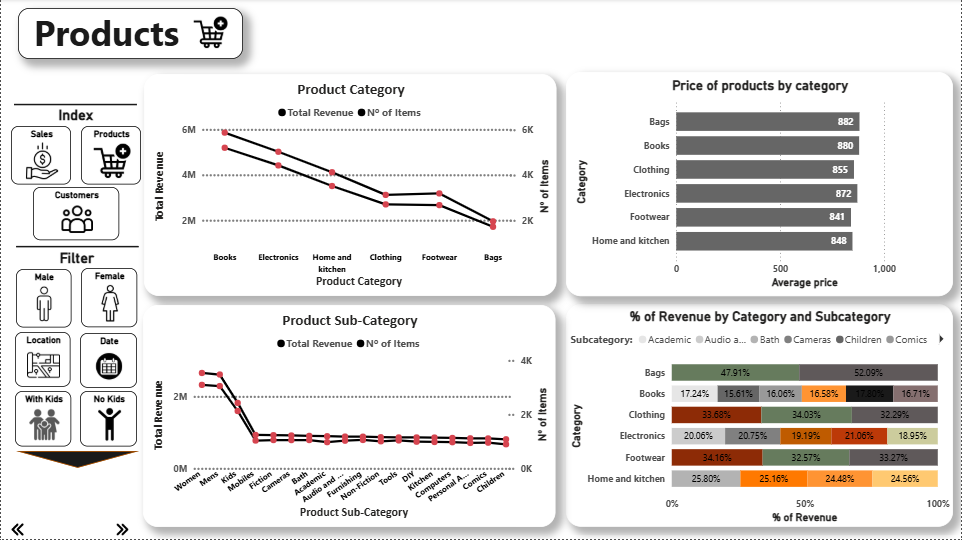

What the dashboard file says about the page in this screenshot:
{"tool":"powerbi","page":{"name":"Products","canvas":[1280,720],"ordinal":1},"visuals":[{"type":"textbox","title":"Products","box":[22.7,12,300,68],"z":0},{"type":"image","box":[140.5,688.9,43.2,31.1],"z":1000},{"type":"image","box":[0,688.9,44.2,31.1],"z":2000},{"type":"image","box":[252,12,54.7,64],"z":3000},{"type":"hundredPercentStackedBarChart","title":"% of Revenue by Category and Subcategory","fields":{"Series":["temp1671068008898978552.prod_subcat"],"Category":["temp1671068008898978552.prod_cat"],"Y":["Sum(temp1671068008898978552.total_amt)"]},"box":[752.9,407.1,515.7,297.1],"z":7000},{"type":"lineChart","title":"Product Category","fields":{"Y":["Sum(temp1671068008898978552.total_amt)"],"Category":["temp1671068008898978552.prod_cat"],"Y2":["Sum(temp1671068008898978552.Qty)"]},"box":[190,100,550,295.7],"z":8000},{"type":"lineChart","title":" Product Sub-Category","fields":{"Y":["Sum(temp1671068008898978552.total_amt)"],"Y2":["Sum(temp1671068008898978552.Qty)"],"Category":["temp1671068008898978552.prod_subcat"]},"box":[189.4,407.8,549.6,296.3],"z":9000},{"type":"barChart","title":"Price of products by category","fields":{"Category":["temp1671068008898978552.prod_cat"],"Y":["Avg(temp1671068008898978552.Unit_price)"]},"box":[752.9,97.1,515.7,298.6],"z":10000},{"type":"image","box":[140.5,688.9,43.2,31.1],"z":11000},{"type":"image","box":[0,688.9,44.2,31.1],"z":12000},{"type":"textbox","box":[56.4,138.8,87.7,33.5],"z":13000},{"type":"shape","box":[17.9,133.9,163.9,14.8],"z":14000},{"type":"image","title":"Sales","box":[13.8,168.8,80.3,78.1],"z":15000},{"type":"textbox","box":[57.7,329.4,87.7,33.8],"z":16000},{"type":"image","title":"Products","box":[106.4,168.8,80,78.1],"z":17000},{"type":"image","title":"Customers","box":[42.5,251.1,115.2,71.3],"z":18000},{"type":"shape","box":[19.6,322,163.8,15],"z":19000},{"type":"shape","box":[19.6,603,164.4,22.5],"z":20000},{"type":"image","title":"Date","box":[105.9,444.9,76.2,72.5],"z":21000},{"type":"image","title":"Location","box":[18.5,443.7,74.4,72.8],"z":22000},{"type":"image","title":"With Kids","box":[18.7,522.3,75.5,73.6],"z":23000},{"type":"image","title":"No Kids","box":[105.1,522.3,76.4,73.6],"z":24000},{"type":"image","title":"Female","box":[107.1,358.7,75,78.8],"z":25000},{"type":"image","title":"Male","box":[19.6,359.6,73.6,78.2],"z":26000}]}

Visuals, with their boxes in screenshot pixels (x1, y1, x2, y2), scaled from the page's 1280x720 canvas onto the 962x540 screenshot:
"Products" textbox: <region>17, 9, 243, 60</region>
image: <region>106, 517, 138, 539</region>
image: <region>0, 517, 33, 539</region>
image: <region>189, 9, 231, 57</region>
"% of Revenue by Category and Subcategory" hundredPercentStackedBarChart: <region>566, 305, 953, 528</region>
"Product Category" lineChart: <region>143, 75, 556, 297</region>
" Product Sub-Category" lineChart: <region>142, 306, 555, 528</region>
"Price of products by category" barChart: <region>566, 73, 953, 297</region>
image: <region>106, 517, 138, 539</region>
image: <region>0, 517, 33, 539</region>
textbox: <region>42, 104, 108, 129</region>
shape: <region>13, 100, 137, 112</region>
"Sales" image: <region>10, 127, 71, 185</region>
textbox: <region>43, 247, 109, 272</region>
"Products" image: <region>80, 127, 140, 185</region>
"Customers" image: <region>32, 188, 119, 242</region>
shape: <region>15, 242, 138, 253</region>
shape: <region>15, 452, 138, 469</region>
"Date" image: <region>80, 334, 137, 388</region>
"Location" image: <region>14, 333, 70, 387</region>
"With Kids" image: <region>14, 392, 71, 447</region>
"No Kids" image: <region>79, 392, 136, 447</region>
"Female" image: <region>80, 269, 137, 328</region>
"Male" image: <region>15, 270, 70, 328</region>
